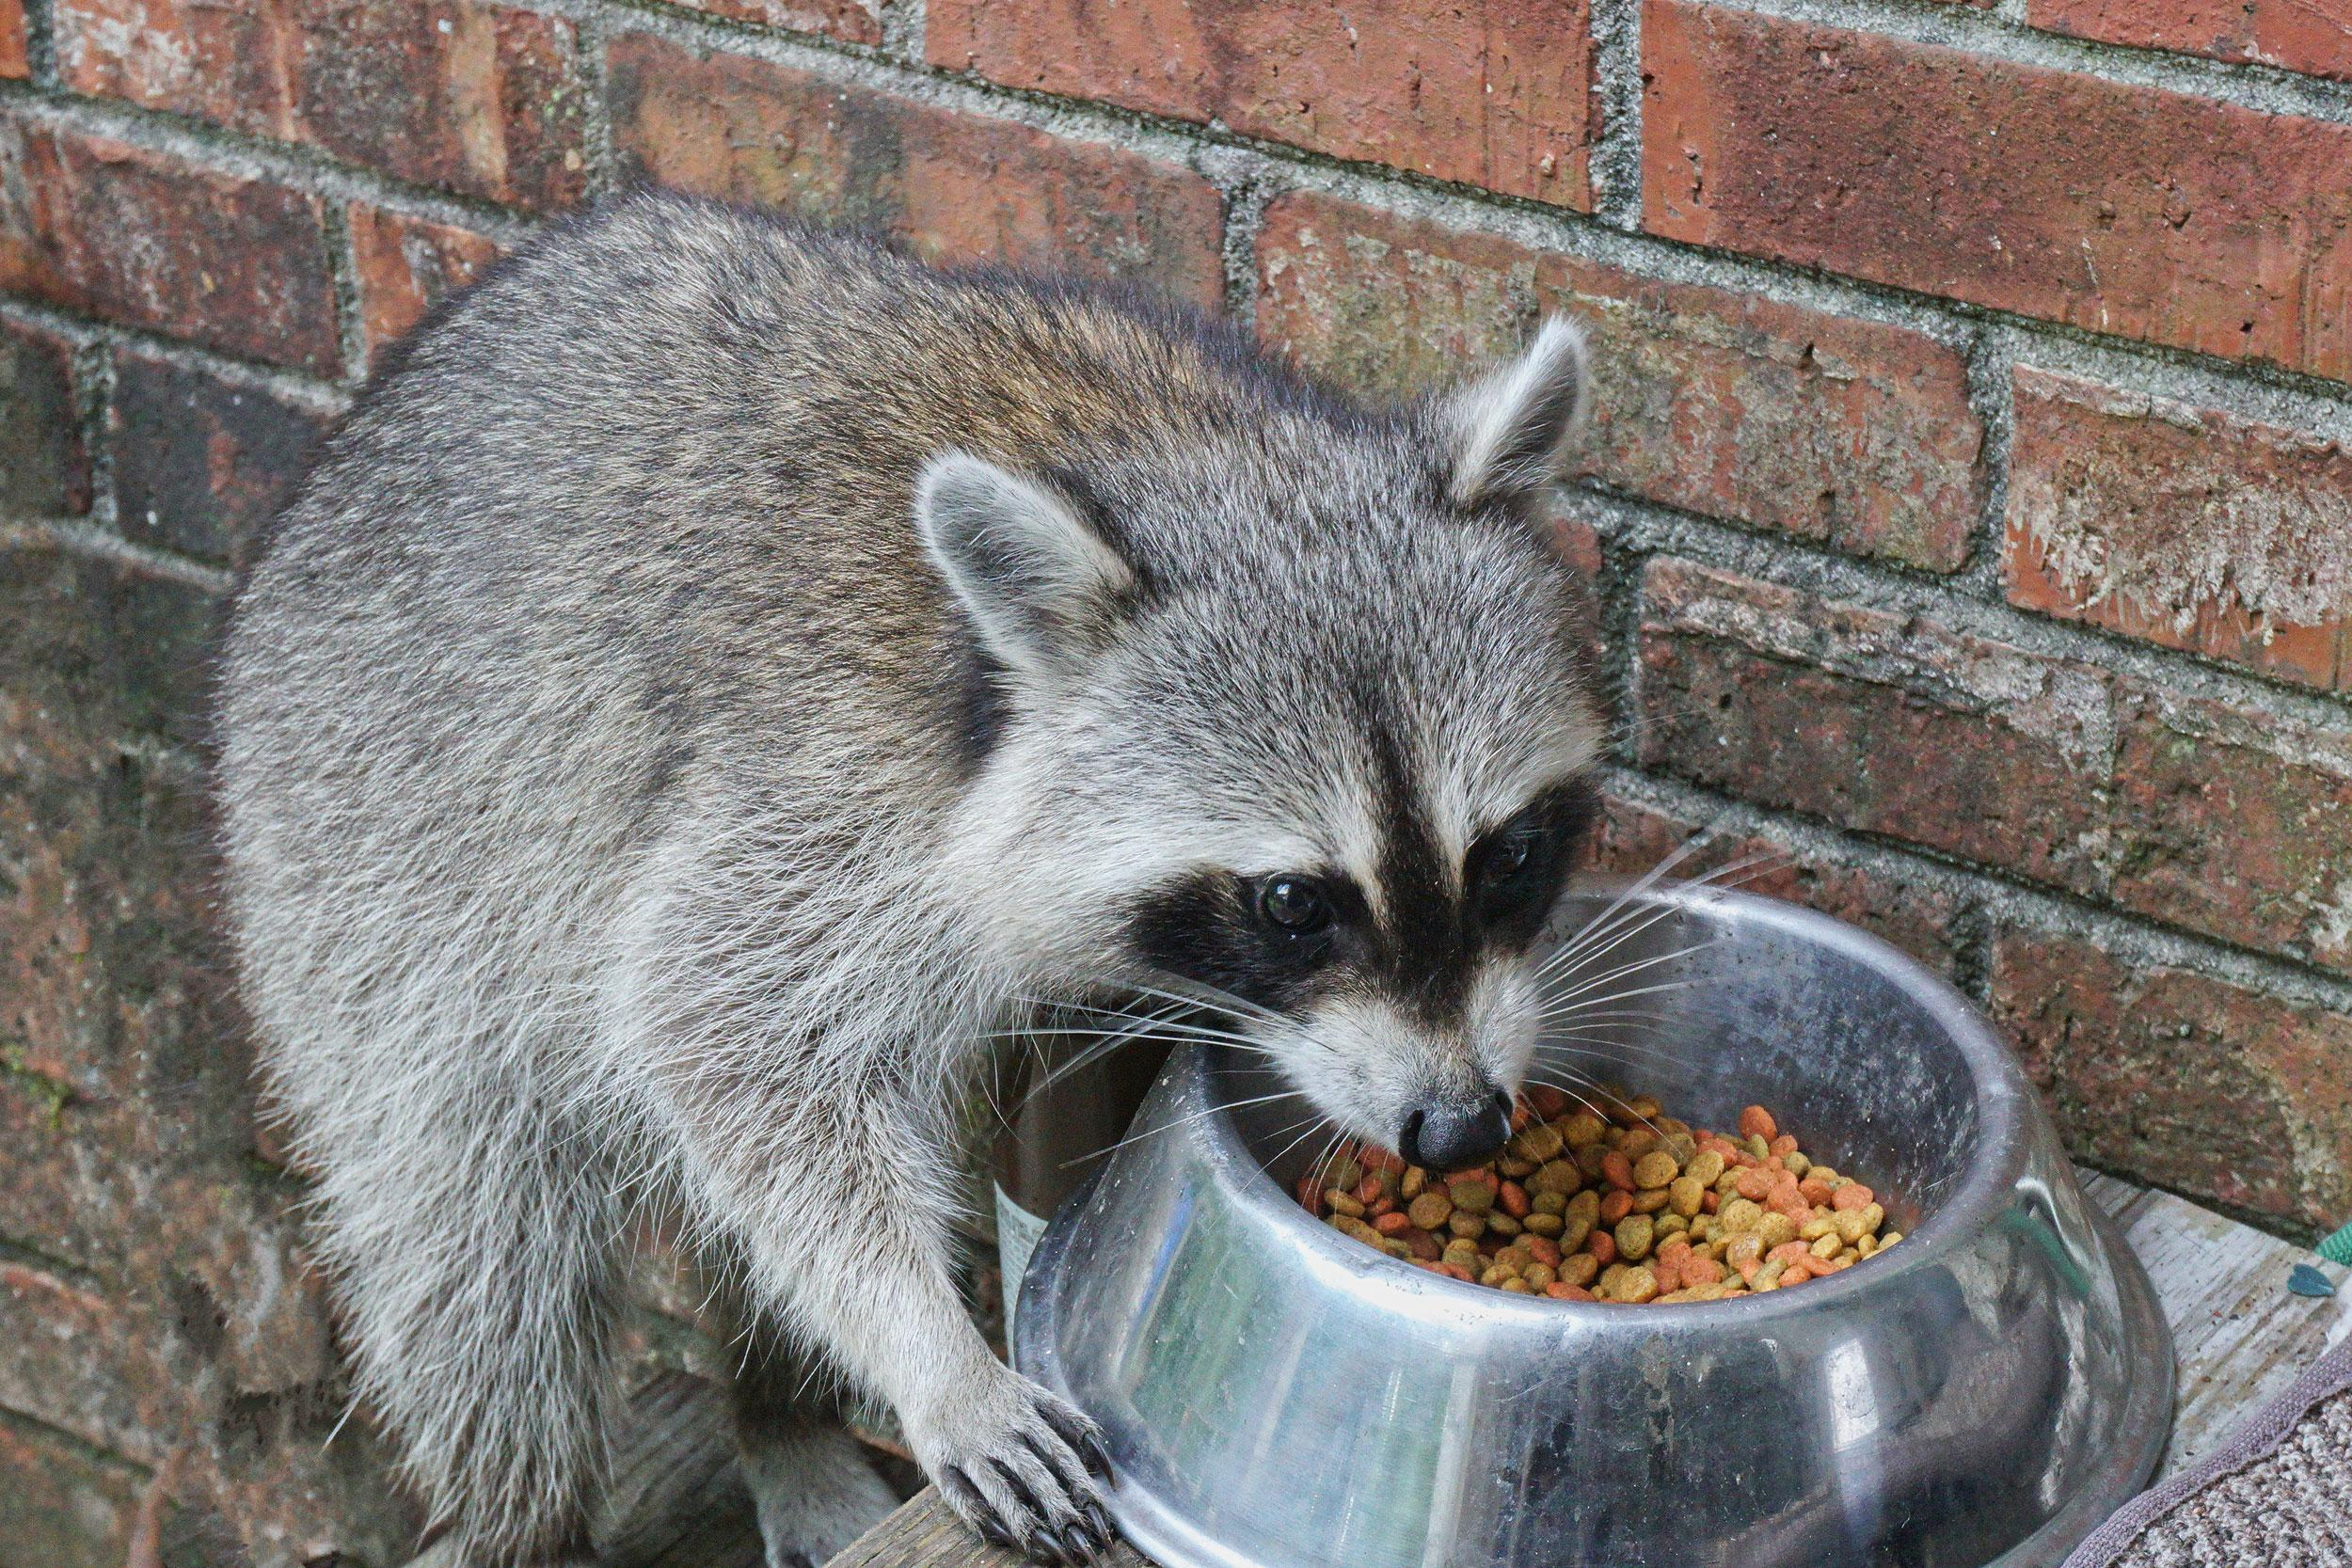raccoon: (154, 182, 1657, 1568)
